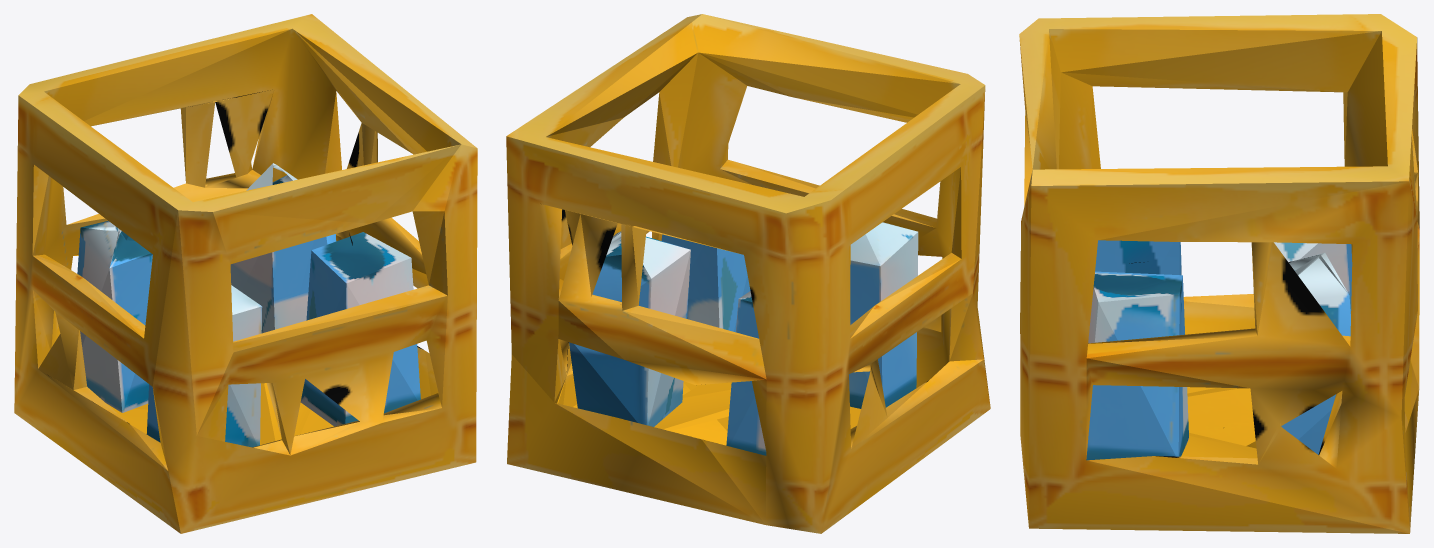
Rendered from milk-crate.glb.
3 renders of one model, left to right at view 1: azimuth 30°, elevation 25°; view 2: azimuth 150°, elevation 25°; view 3: azimuth 270°, elevation 25°, orthographic. The views are drawn at different scales.
Visible parts, largest first — view 1: geometry_0.001; view 2: geometry_0.001; view 3: geometry_0.001.
Boxes of the visible parts, <box> form: geometry_0.001: <box>14,14,477,533</box>; geometry_0.001: <box>506,14,990,533</box>; geometry_0.001: <box>1019,14,1419,533</box>.
Bounding box in the file's own units: 0.9829 × 0.9708 × 0.9892.
Materials: 1 (1 with a texture image).
